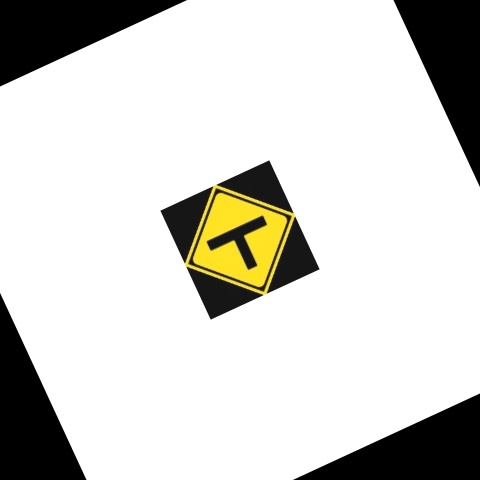Japan_T-junction: (111, 111, 370, 369)
